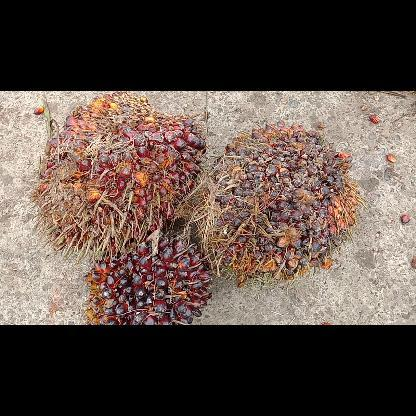Kurang masak: (206, 119, 359, 285), (86, 236, 212, 324)
TBS masak: (31, 90, 206, 258)
